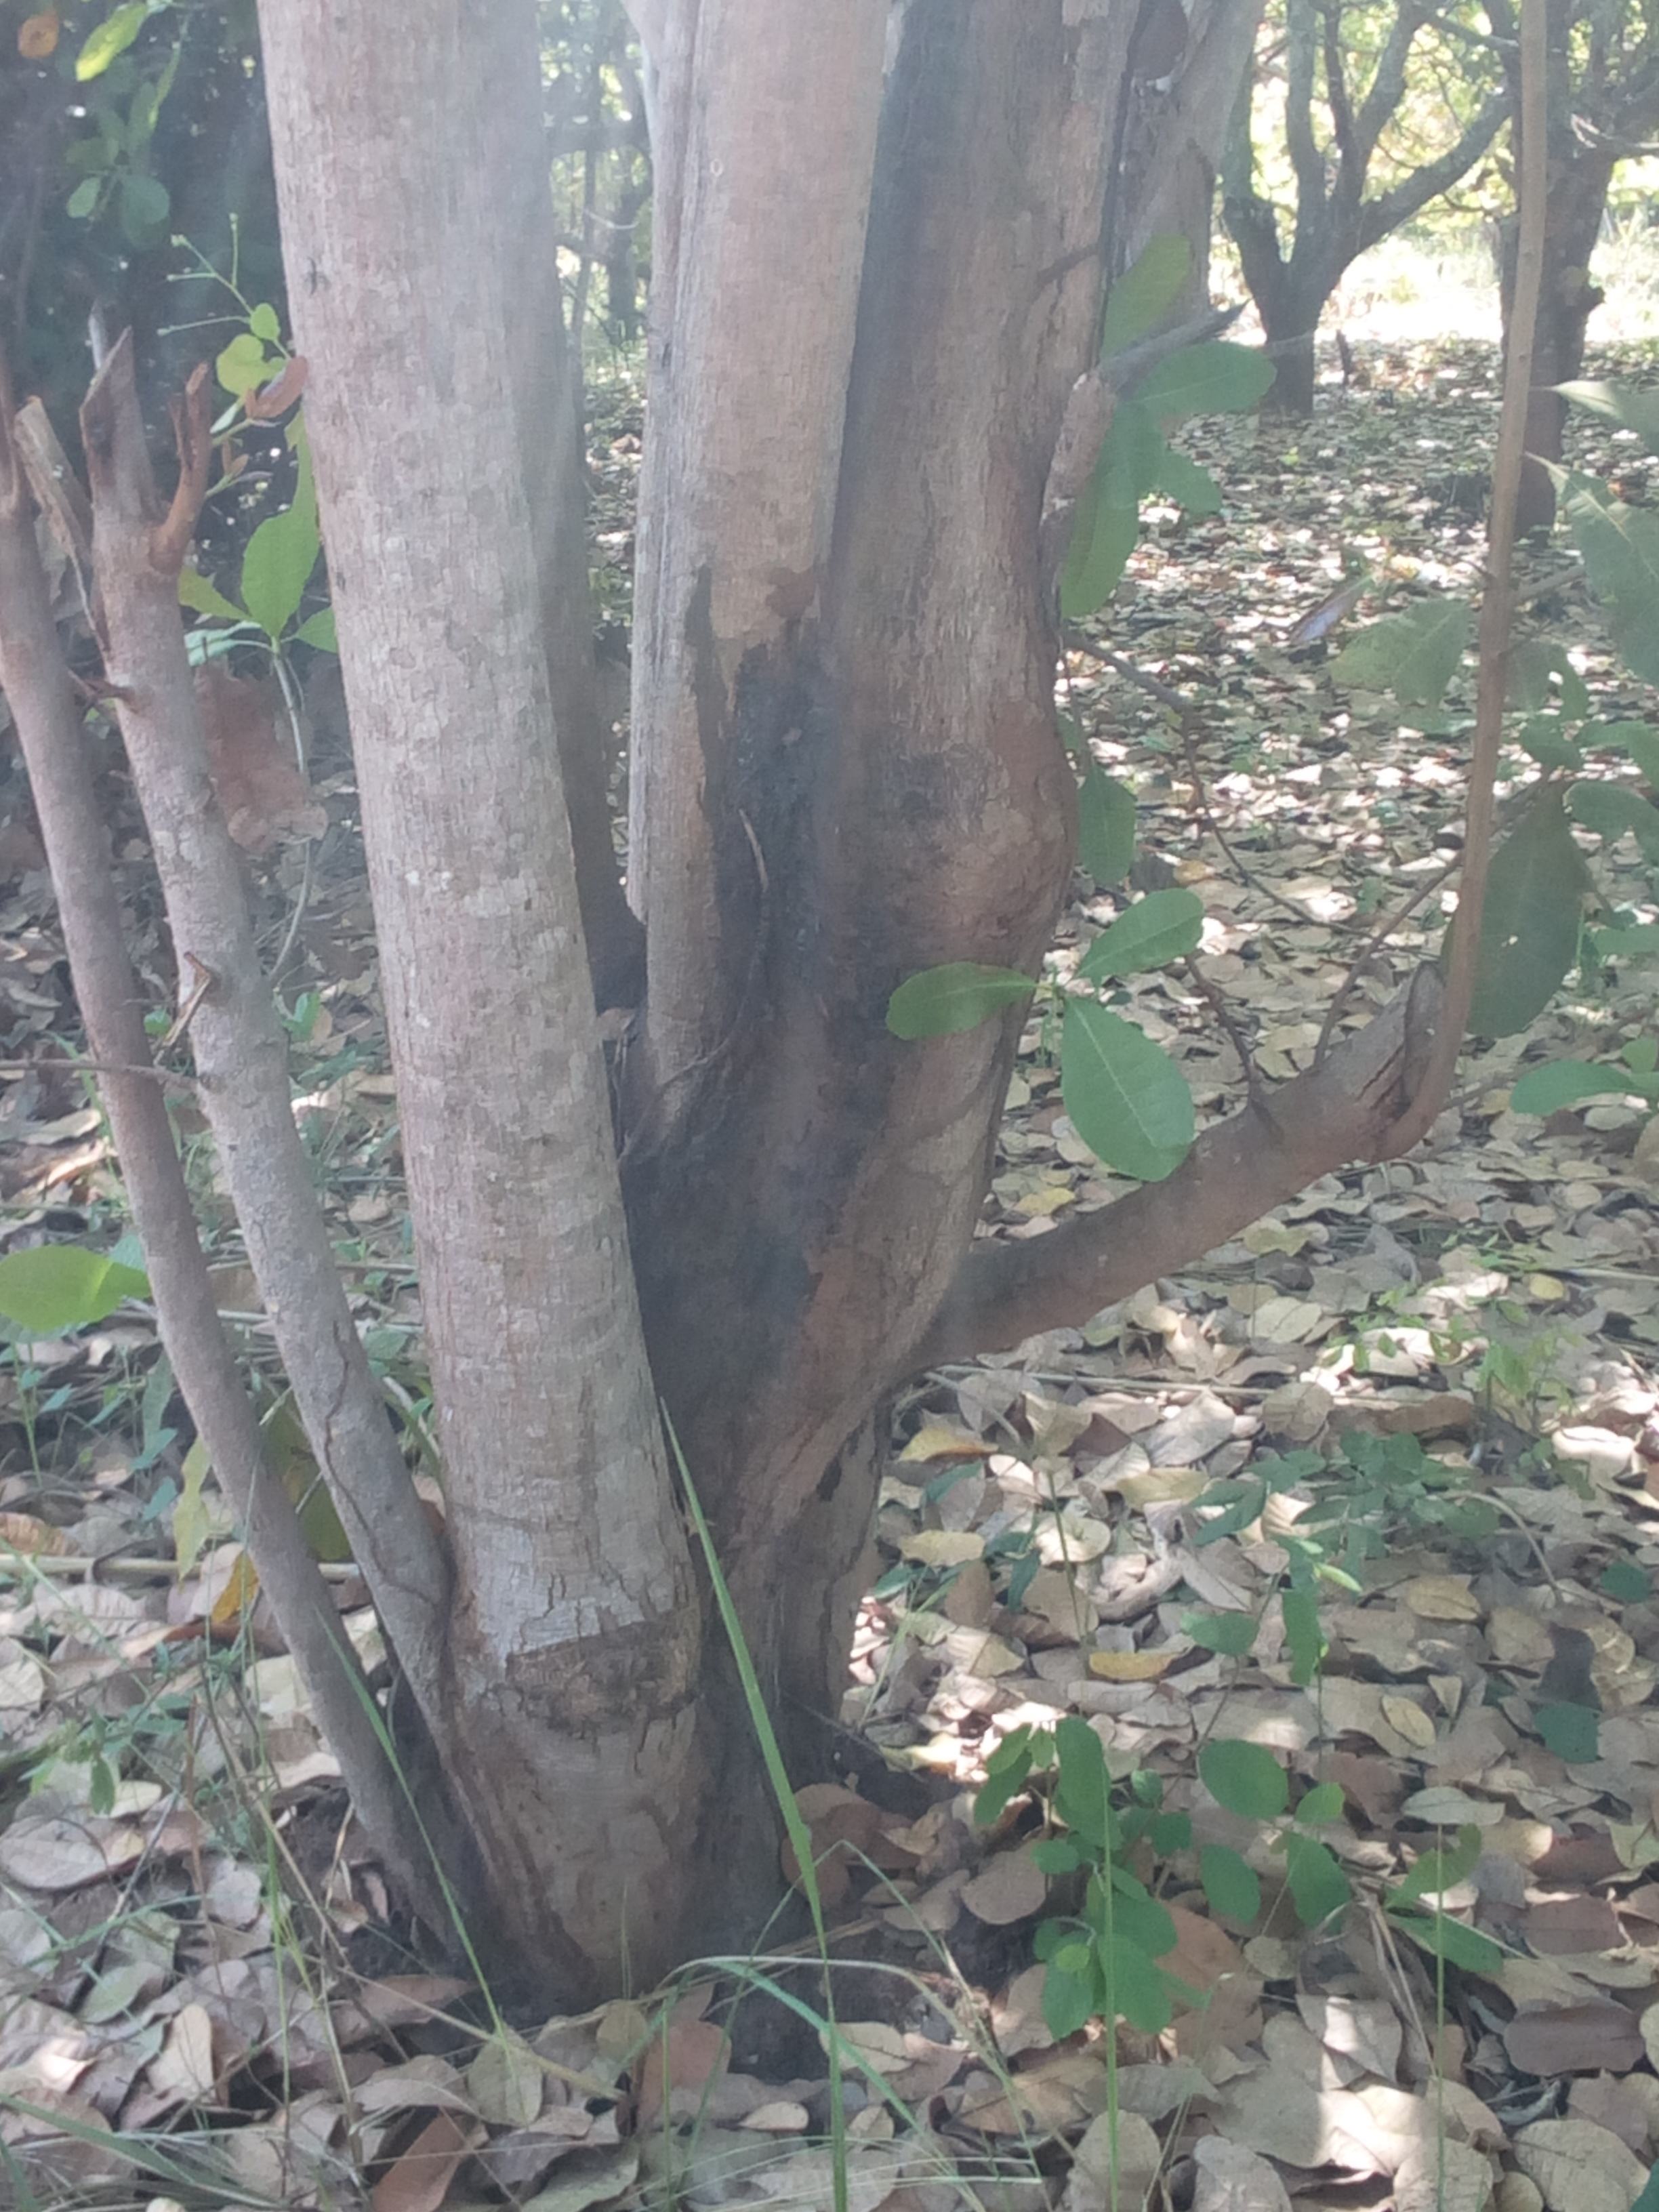Gommose: (676, 625, 863, 1400)
